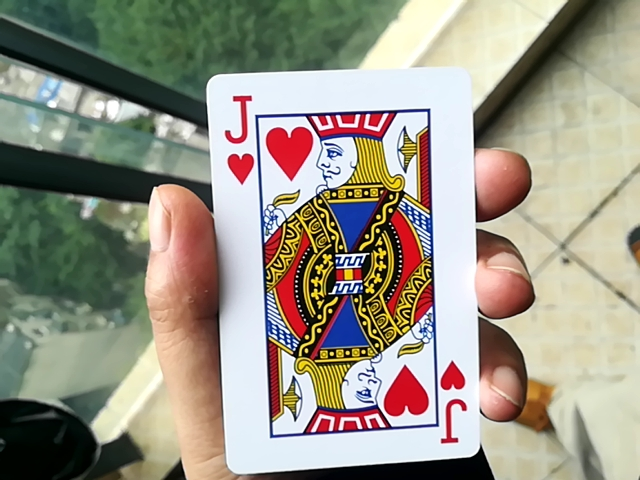hx j: (193, 67, 490, 479)
